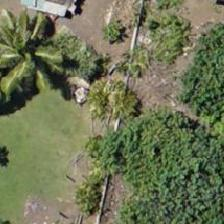coconut_tree: (0, 6, 73, 96)
